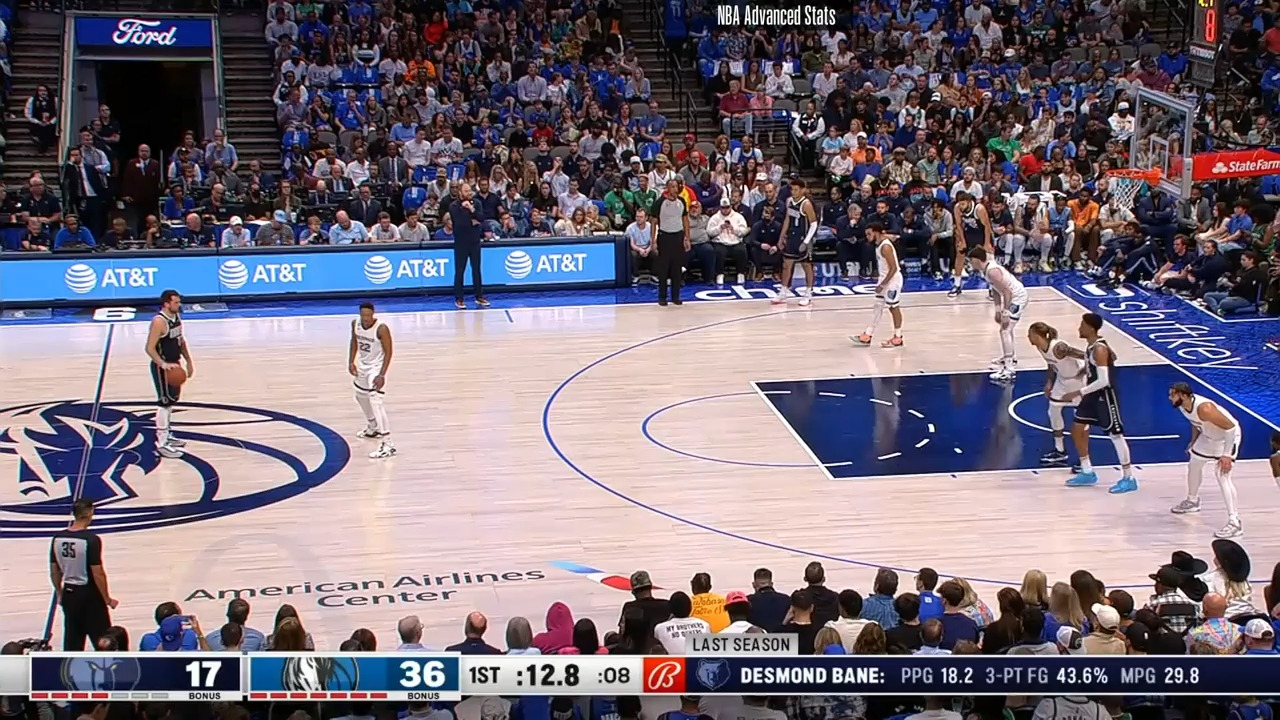net: (1108, 163, 1168, 212)
player: (1064, 311, 1138, 493), (1169, 383, 1249, 537), (137, 287, 197, 470), (1032, 319, 1097, 485), (349, 300, 405, 465), (969, 252, 1030, 380), (943, 193, 997, 303), (948, 195, 997, 306), (864, 220, 906, 349)
referee: (38, 494, 118, 654), (655, 182, 701, 311)
